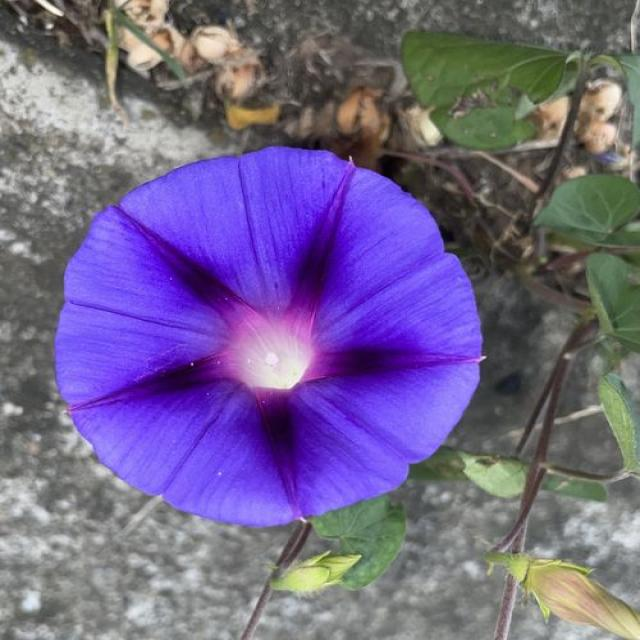ipomoea: (50, 142, 489, 530)
